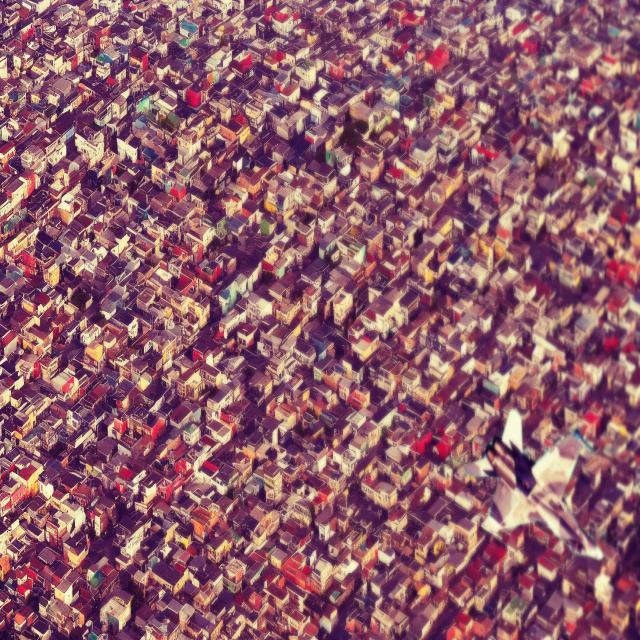airplane: (453, 407, 603, 562)
